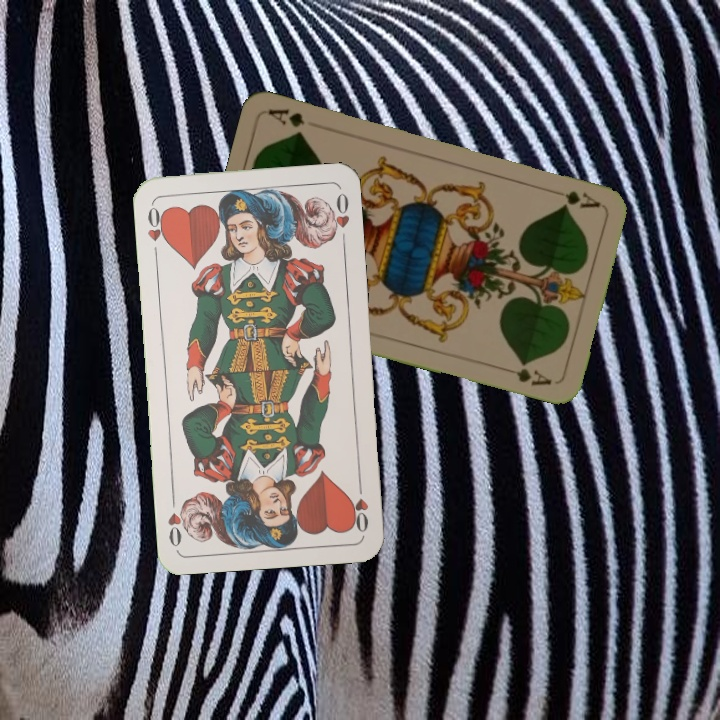GA: (545, 187, 604, 211)
HO: (143, 200, 170, 259), (347, 477, 371, 535)
